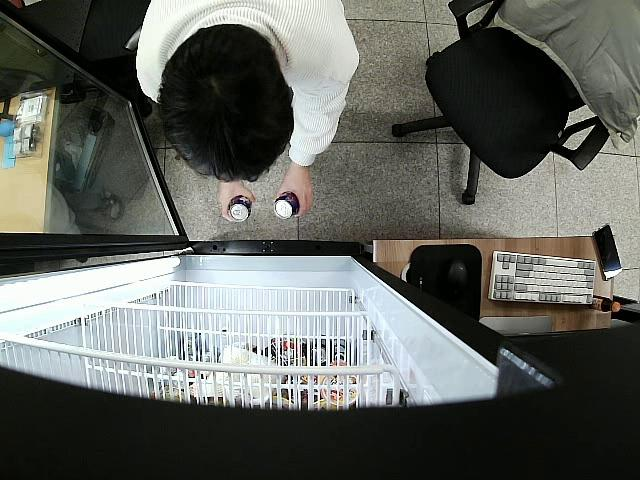00_hand: (277, 169, 314, 219), (217, 179, 256, 222)
14_welchsGrape: (227, 195, 251, 222), (274, 191, 297, 219)
